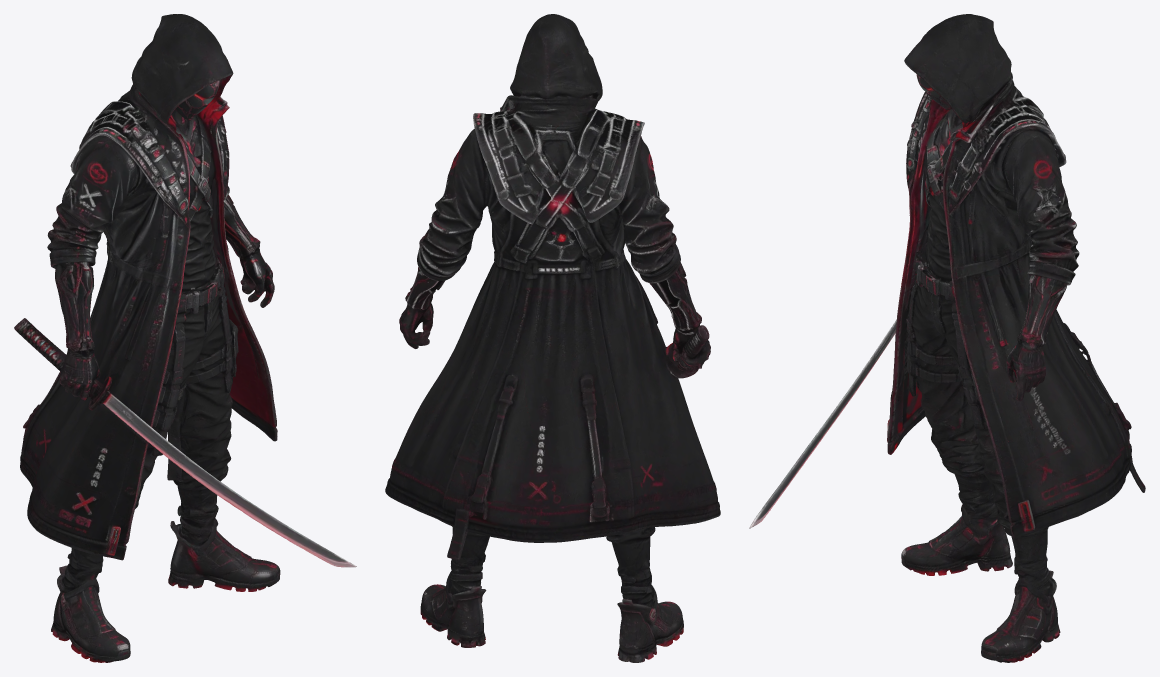
The model's file is 赛博忍者2-黄歧.glb.
3 renders of one model, left to right at view 1: azimuth 30°, elevation 25°; view 2: azimuth 150°, elevation 25°; view 3: azimuth 270°, elevation 25°, orthographic.
Size of the model in its own units: 0.9301 by 1.9 by 1.14.
1 material, 1 textured.
